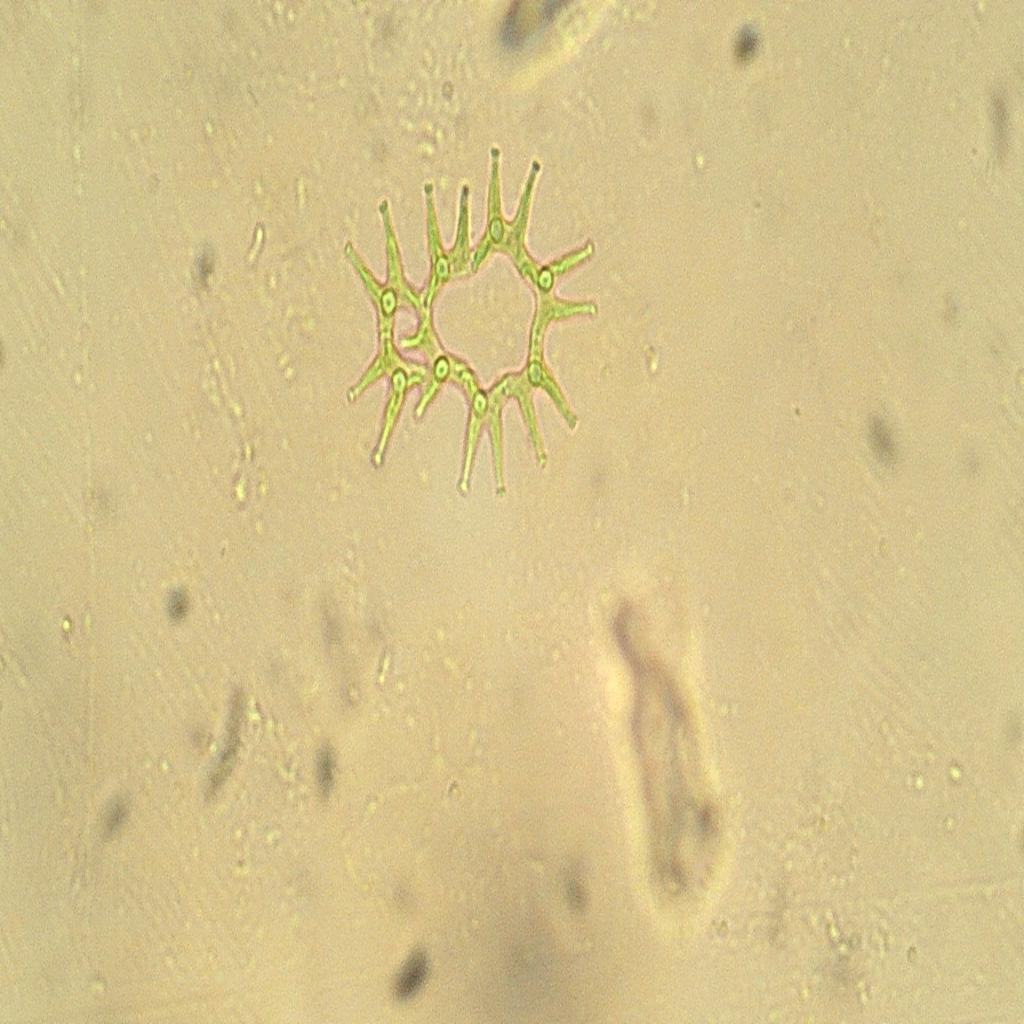Pediastrum_CFI: (314, 131, 630, 507)
